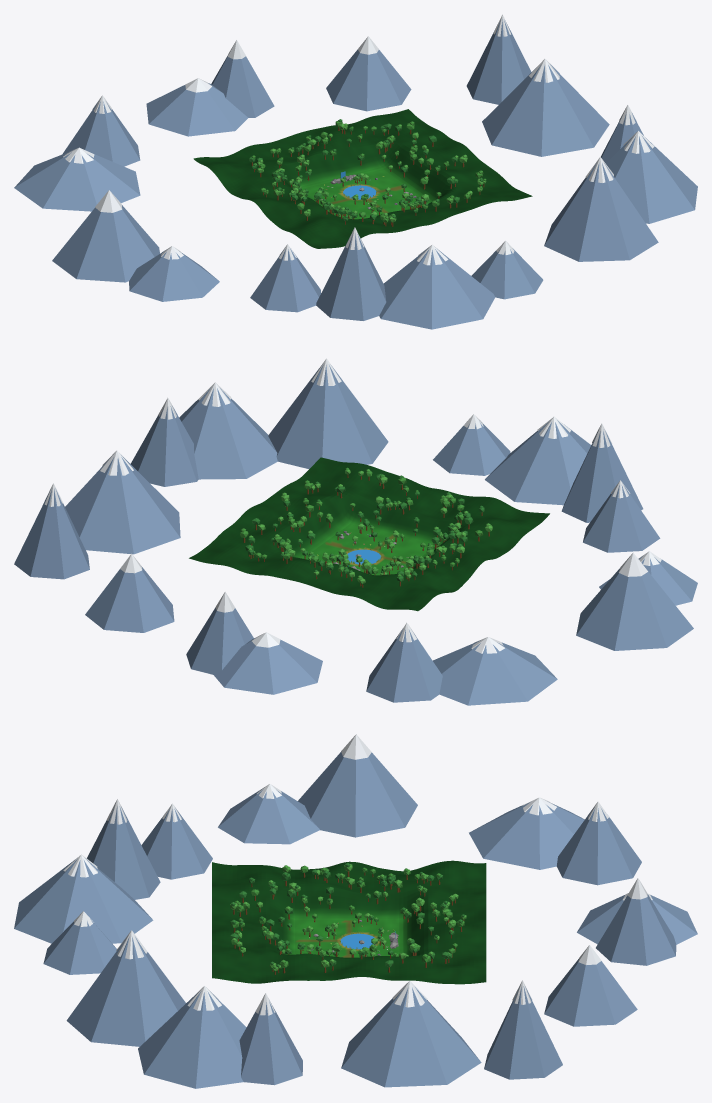
Rendered from asagiLake.glb.
The picture shows the model from 3 angles, top to bottom: view 1: azimuth 30°, elevation 25°; view 2: azimuth 150°, elevation 25°; view 3: azimuth 270°, elevation 25°; orthographic projection. The views are drawn at different scales.
Parts seen in each view (by area): view 1: mountain, terrain, mountainSnow, leaf3, leaf1, leaf2, trunk; view 2: mountain, terrain, mountainSnow, leaf3, leaf1, leaf2, trunk; view 3: mountain, terrain, mountainSnow, leaf3, leaf1, leaf2, trunk.
Boxes of the visible parts, <box> form: mountain: <box>14,19,697,329</box>; terrain: <box>193,109,532,248</box>; mountainSnow: <box>63,14,654,265</box>; leaf3: <box>249,119,483,221</box>; leaf1: <box>251,121,486,222</box>; leaf2: <box>253,123,486,222</box>; trunk: <box>251,126,484,226</box>; mountain: <box>14,364,697,705</box>; terrain: <box>189,457,549,611</box>; mountainSnow: <box>44,358,661,653</box>; leaf3: <box>245,473,484,581</box>; leaf1: <box>240,467,482,581</box>; leaf2: <box>248,469,492,583</box>; trunk: <box>243,474,489,587</box>; mountain: <box>14,752,697,1088</box>; terrain: <box>212,860,486,984</box>; mountainSnow: <box>63,734,652,1015</box>; leaf3: <box>230,862,464,967</box>; leaf1: <box>230,865,464,968</box>; leaf2: <box>230,864,466,970</box>; trunk: <box>233,871,464,974</box>.
Bounding box in the file's own units: 258 × 36.07 × 247.
